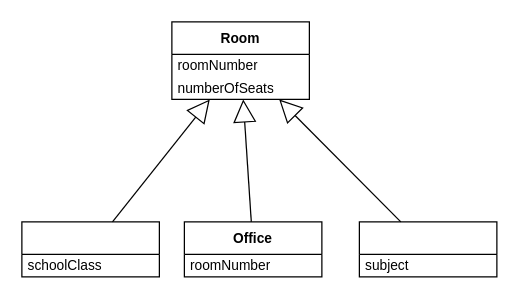
This 519x299 diagram has some shape labels left out. Here are the shapes that lost their labels. From the top down, the box of each, then its label:
(21, 221, 159, 277): ClassRoom
(358, 221, 497, 277): SubjectRoom
